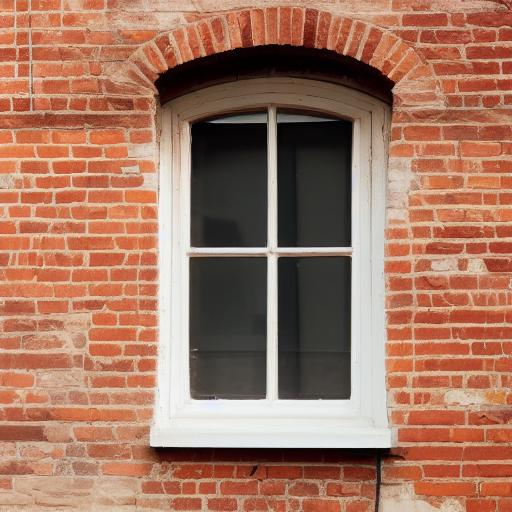Window: (111, 6, 450, 455)
